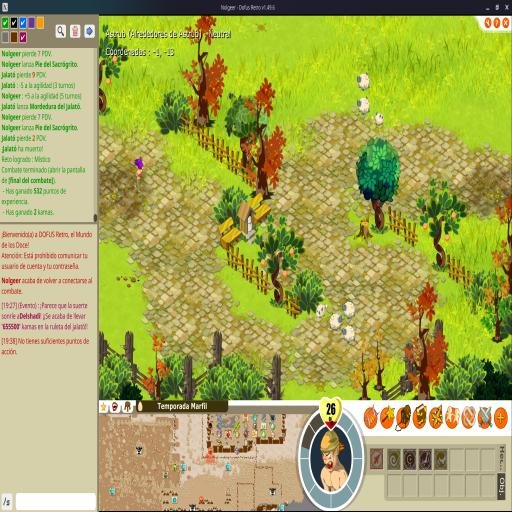Enemigos: (342, 300, 356, 320), (342, 324, 356, 344), (357, 96, 370, 116), (329, 312, 342, 332), (357, 72, 370, 91), (372, 112, 384, 126), (316, 303, 326, 319)
Personaje: (133, 156, 144, 194)
